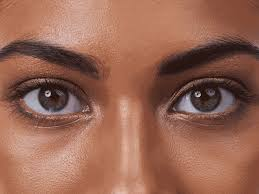pupil: (38, 84, 69, 112), (191, 84, 222, 111)
